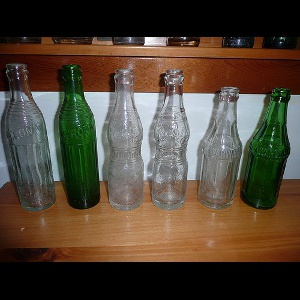emptybottle: (4, 64, 54, 212), (241, 86, 291, 210), (59, 65, 100, 210), (150, 71, 190, 210), (107, 69, 144, 211), (199, 88, 241, 211)
